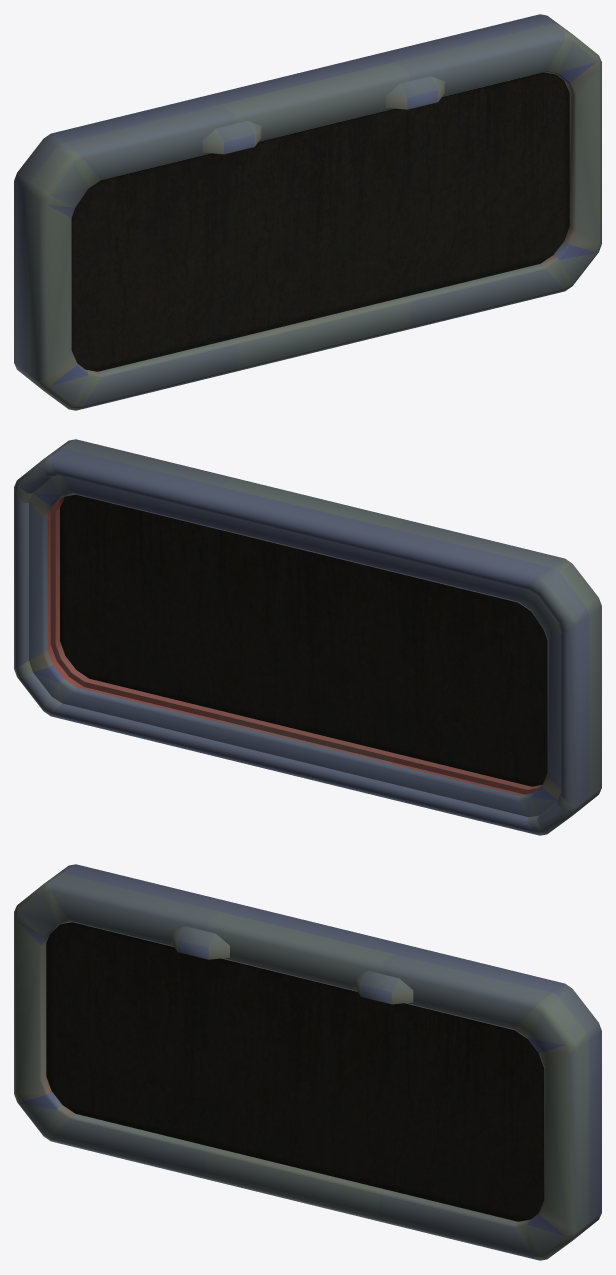
Rendered from living_area_window_security_shutter_frame.dae.
3 views of the same model, one above another, from view 1: azimuth 30°, elevation 25°; view 2: azimuth 150°, elevation 25°; view 3: azimuth 330°, elevation 25° (orthographic).
Parts seen in each view (by area): view 1: glass, window_frame; view 2: glass, window_frame; view 3: glass, window_frame.
Part boxes in pixels (x1=…): glass: x1=71, y1=72, x2=569, y2=371; window_frame: x1=14, y1=14, x2=601, y2=410; glass: x1=60, y1=494, x2=547, y2=786; window_frame: x1=14, y1=439, x2=601, y2=835; glass: x1=46, y1=922, x2=544, y2=1221; window_frame: x1=14, y1=864, x2=601, y2=1260.
Size of the model in its own units: 6.46 by 2.84 by 0.7715.
